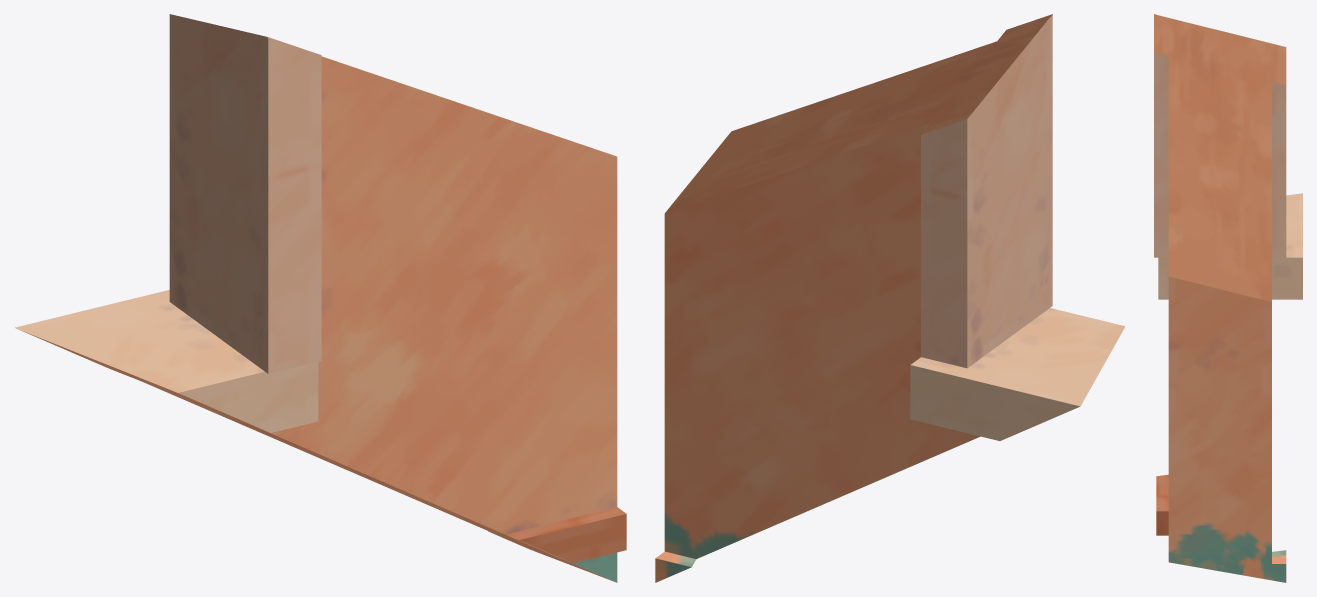
File: wall2_window_s04.fbx
The picture shows the model from 3 angles, left to right: view 1: azimuth 30°, elevation 25°; view 2: azimuth 150°, elevation 25°; view 3: azimuth 270°, elevation 25°; orthographic projection. The views are drawn at different scales.
Visible parts, largest first — view 1: wall2_window_s04; view 2: wall2_window_s04; view 3: wall2_window_s04.
Part boxes in pixels (x1,y1,x2,y2): wall2_window_s04: (15, 14, 626, 582); wall2_window_s04: (655, 14, 1125, 582); wall2_window_s04: (1154, 14, 1302, 582).
Size of the model in its own units: 3.77 by 4.82 by 1.44.
